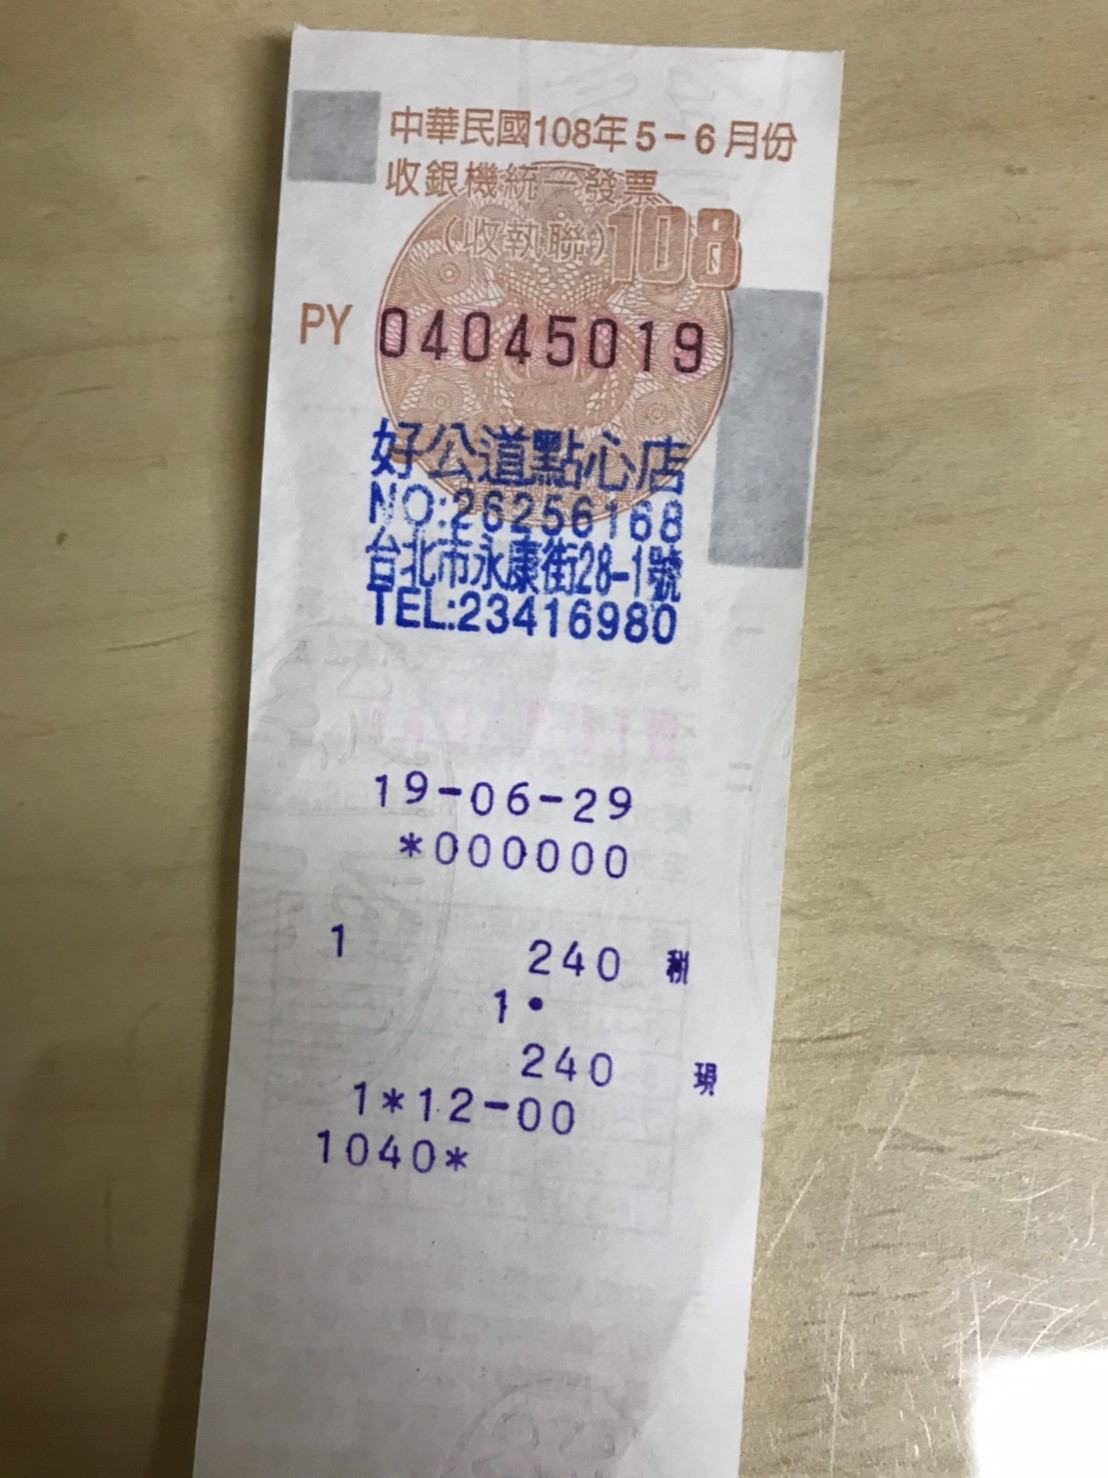Date_Old: (533, 108, 800, 166)
Number_Old: (376, 306, 706, 376)
